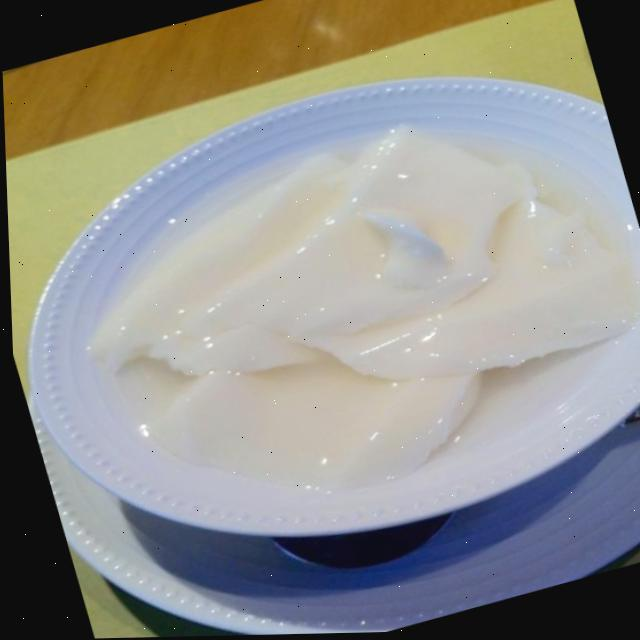面条主食: (36, 29, 640, 597)
